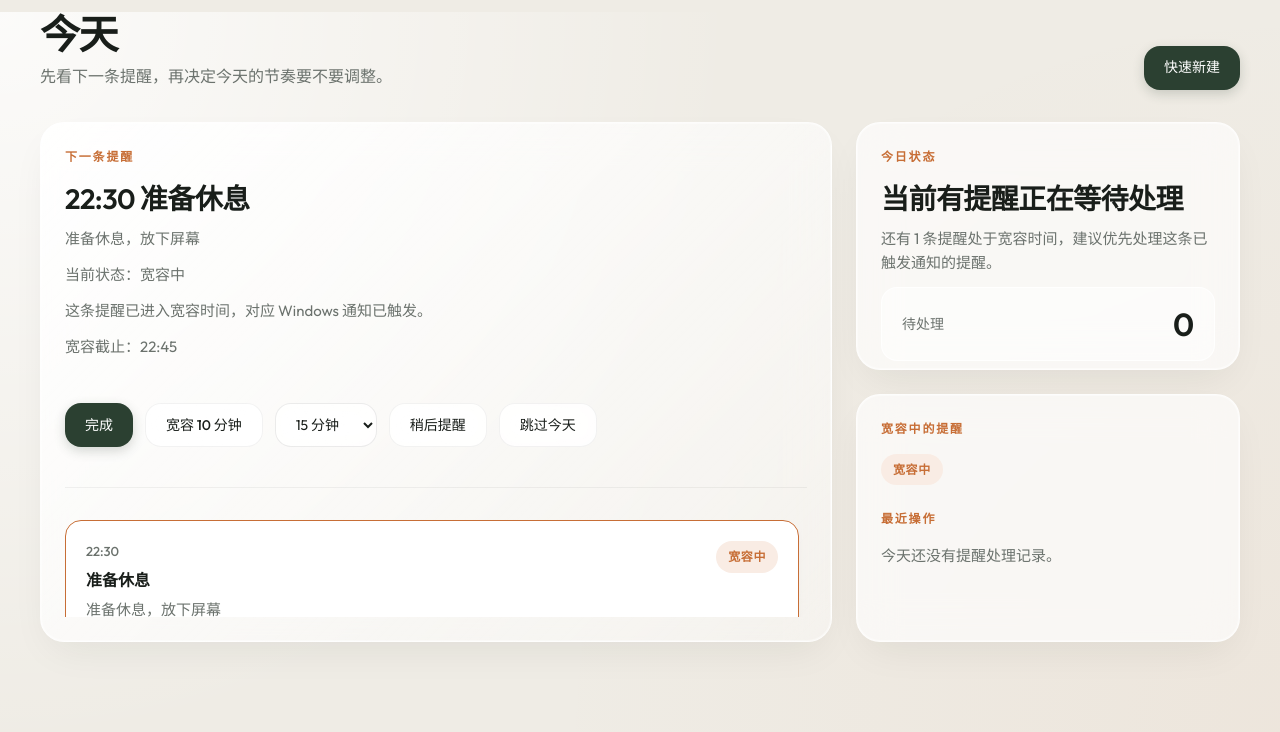
it: TodayPage › skips reminder for today
Expected: the text "22:30 准备休息" is shown, [65,181,250,216]
Click the button "跳过今天" at {"x": 548, "y": 425}, box [499,403,597,447]
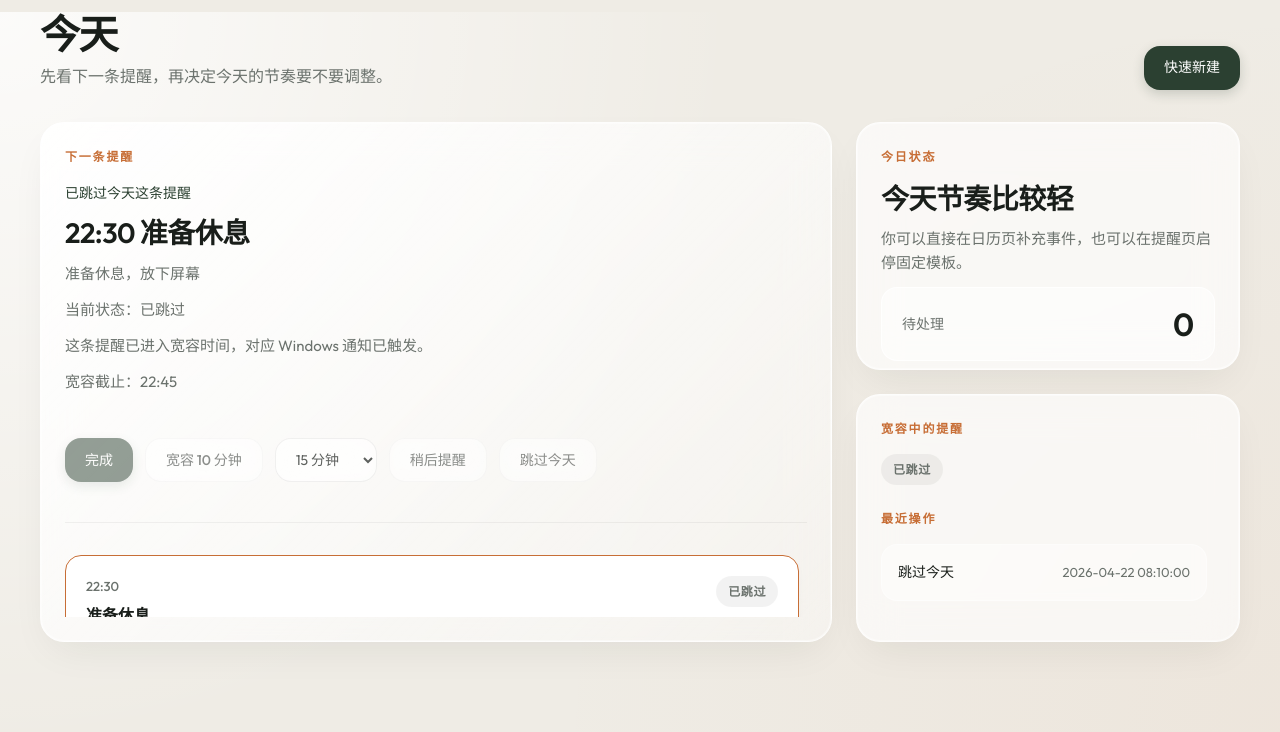
Now the 2nd text "已跳过" is shown, box [716,576,778,607]
